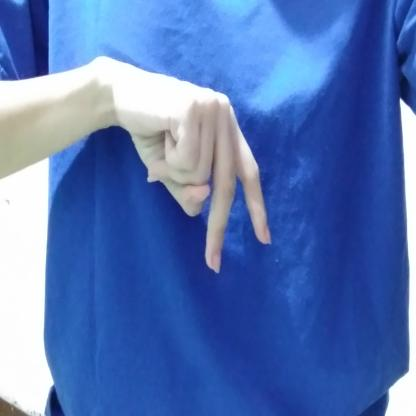run: (94, 51, 289, 279)
